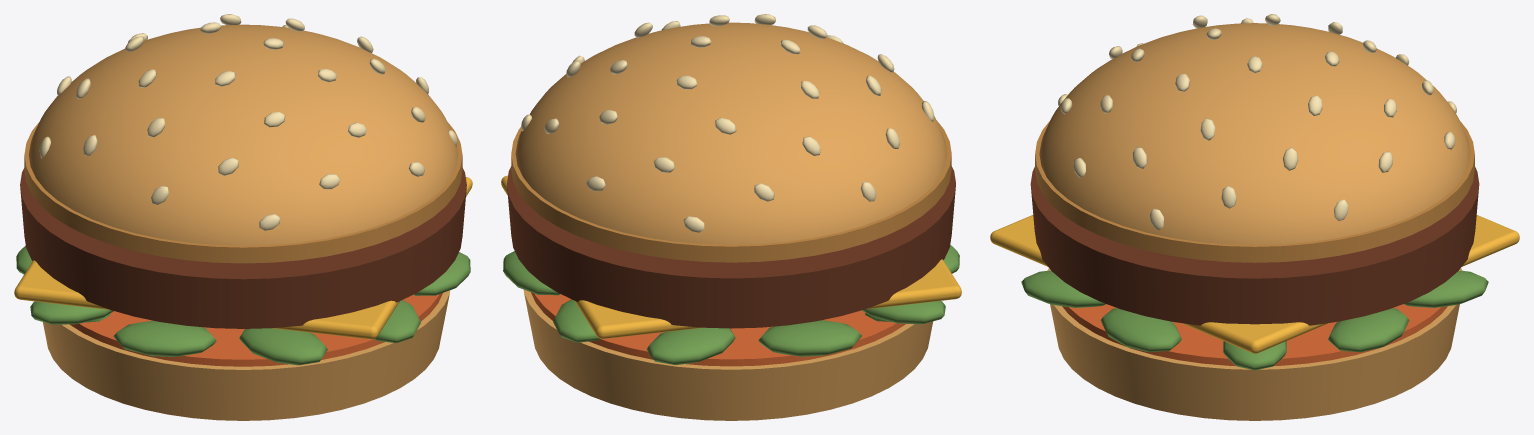
The model's file is burger-beef.glb.
The picture shows the model from 3 angles, left to right: view 1: azimuth 30°, elevation 25°; view 2: azimuth 150°, elevation 25°; view 3: azimuth 270°, elevation 25°; orthographic projection.
Visible parts, largest first — view 1: TopBun, burger-beef, Patty, Lettuce, Sesame; view 2: TopBun, burger-beef, Patty, Lettuce, Sesame; view 3: TopBun, burger-beef, Patty, Lettuce, Sesame.
Part boxes in pixels (bbox=[...]): TopBun: bbox=[29, 24, 457, 245]; burger-beef: bbox=[14, 122, 472, 420]; Patty: bbox=[20, 168, 466, 328]; Lettuce: bbox=[16, 245, 470, 365]; Sesame: bbox=[39, 14, 457, 230]; TopBun: bbox=[515, 22, 947, 244]; burger-beef: bbox=[501, 120, 961, 420]; Patty: bbox=[507, 166, 955, 328]; Lettuce: bbox=[503, 245, 959, 364]; Sesame: bbox=[521, 14, 934, 232]; TopBun: bbox=[1039, 23, 1470, 244]; burger-beef: bbox=[990, 120, 1519, 420]; Patty: bbox=[1030, 167, 1479, 325]; Lettuce: bbox=[1021, 270, 1488, 370]; Sesame: bbox=[1058, 14, 1456, 230].
Bounding box in the file's own units: 2.41 × 1.47 × 2.41.
